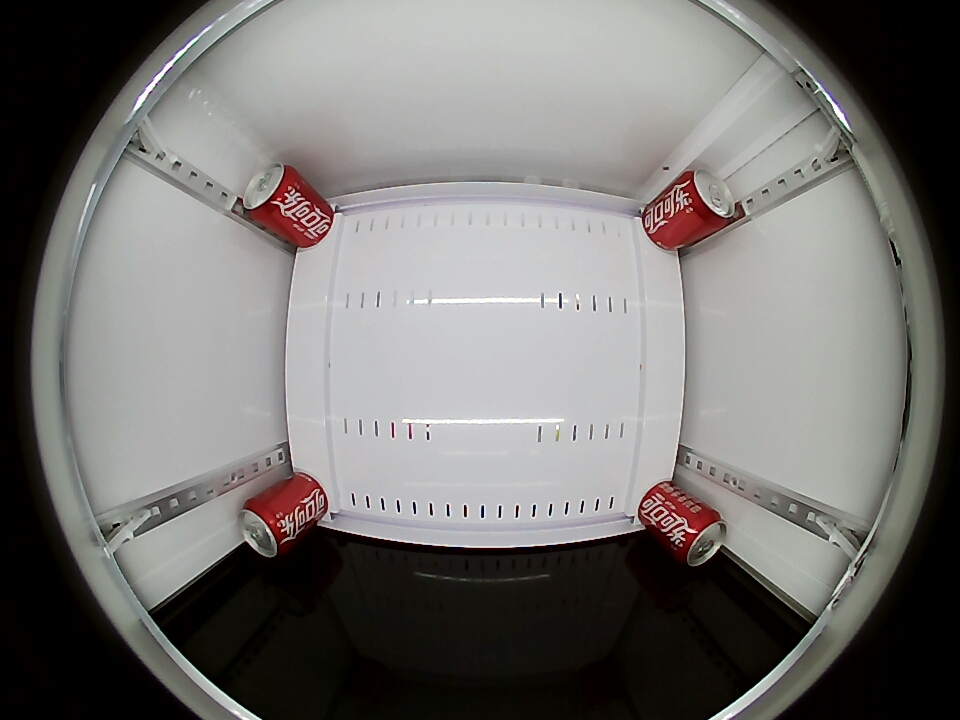kele: (677, 169, 737, 230), (240, 163, 301, 222), (672, 507, 728, 567), (238, 498, 292, 558)
